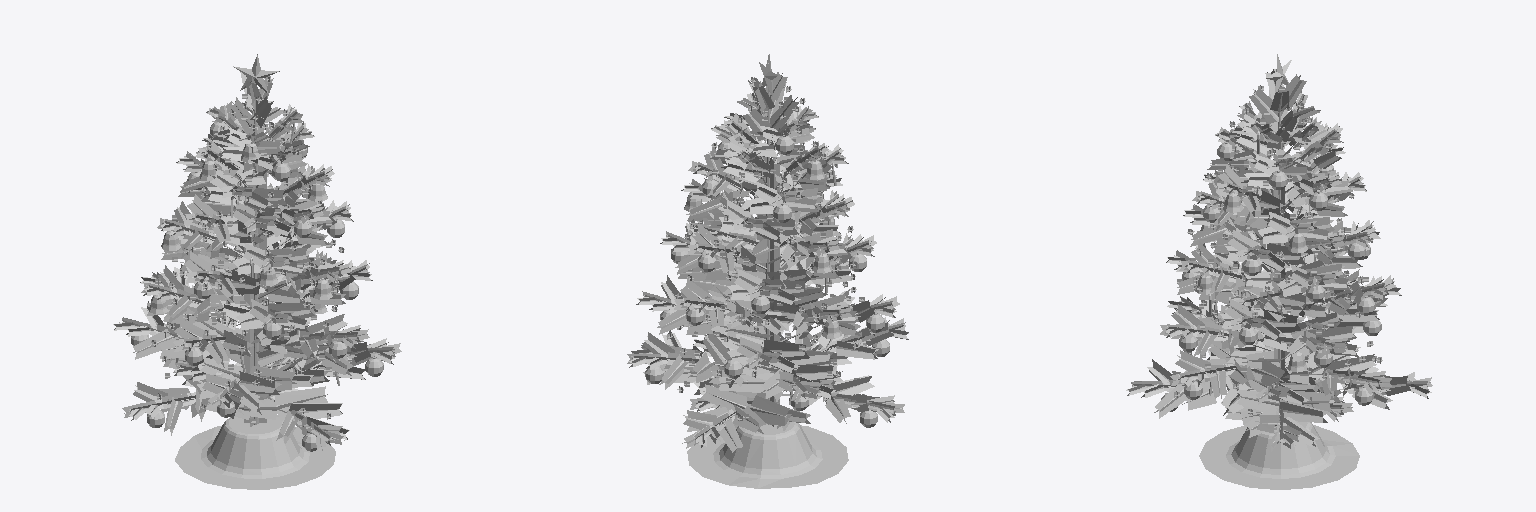
File: smallchristmastreemesh2.obj
3 renders of one model, left to right at view 1: azimuth 30°, elevation 25°; view 2: azimuth 150°, elevation 25°; view 3: azimuth 270°, elevation 25°, orthographic.
Parts seen in each view (by area): view 1: smallchristmastreemesh3, smallchristmastreemesh2, smallchristmastreemesh4, smallchristmastreemesh5, smallchristmastreemesh1, smallchristmastreemesh9, smallchristmastreemesh8, smallchristmastreemesh7; view 2: smallchristmastreemesh3, smallchristmastreemesh2, smallchristmastreemesh4, smallchristmastreemesh5, smallchristmastreemesh1, smallchristmastreemesh8, smallchristmastreemesh9, smallchristmastreemesh7; view 3: smallchristmastreemesh3, smallchristmastreemesh2, smallchristmastreemesh4, smallchristmastreemesh5, smallchristmastreemesh1, smallchristmastreemesh8, smallchristmastreemesh7, smallchristmastreemesh9.
Part boxes in pixels (x1,y1,x2,y2): smallchristmastreemesh3: (113, 241, 401, 450); smallchristmastreemesh2: (157, 72, 353, 426); smallchristmastreemesh4: (175, 415, 335, 489); smallchristmastreemesh5: (131, 54, 383, 451); smallchristmastreemesh1: (122, 83, 397, 438); smallchristmastreemesh9: (151, 76, 343, 413); smallchristmastreemesh8: (151, 96, 344, 419); smallchristmastreemesh7: (155, 94, 338, 423); smallchristmastreemesh3: (627, 233, 908, 452); smallchristmastreemesh2: (660, 72, 876, 426); smallchristmastreemesh4: (687, 422, 848, 488); smallchristmastreemesh5: (645, 54, 889, 427); smallchristmastreemesh1: (636, 63, 893, 441); smallchristmastreemesh8: (684, 85, 864, 419); smallchristmastreemesh9: (675, 77, 866, 421); smallchristmastreemesh7: (666, 86, 875, 401); smallchristmastreemesh3: (1126, 234, 1432, 451); smallchristmastreemesh2: (1179, 69, 1380, 373); smallchristmastreemesh4: (1199, 421, 1359, 489); smallchristmastreemesh5: (1161, 54, 1381, 411); smallchristmastreemesh1: (1131, 63, 1422, 442); smallchristmastreemesh8: (1174, 85, 1382, 397); smallchristmastreemesh7: (1184, 90, 1380, 414); smallchristmastreemesh9: (1177, 87, 1368, 377).
Bounding box in the file's own units: 1.93 × 2.82 × 1.95.